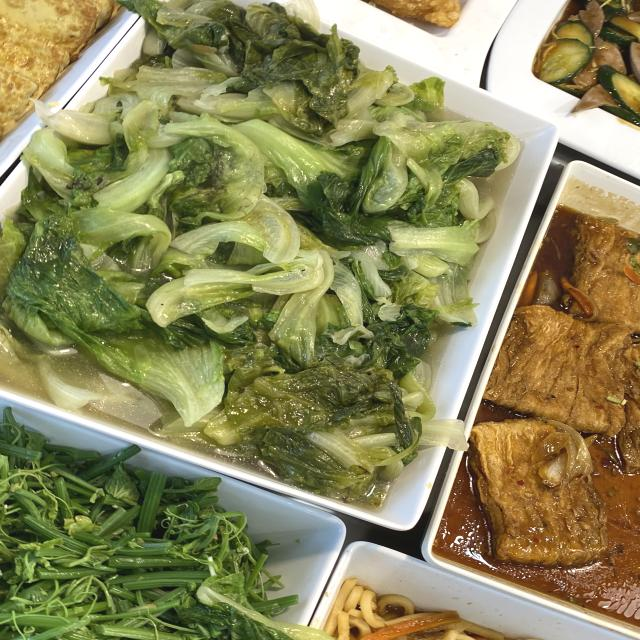Fushan-lettuce: (81, 105, 424, 374)
